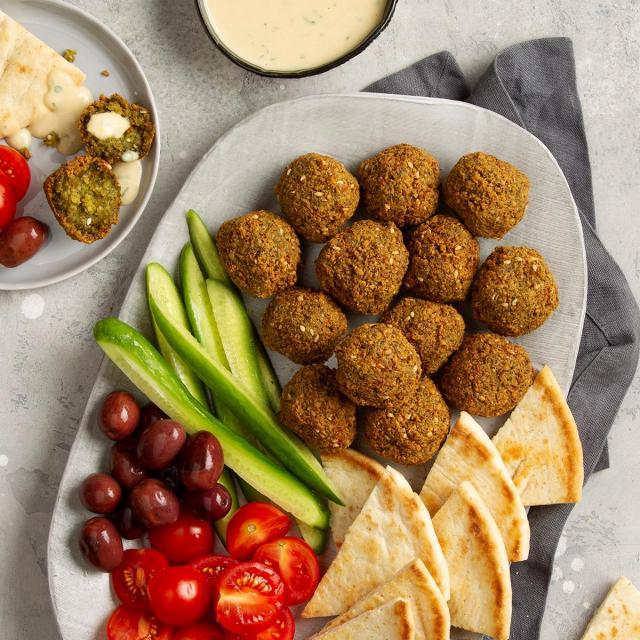flafel: (320, 222, 408, 316), (334, 325, 422, 410), (477, 244, 558, 336), (220, 211, 302, 295), (279, 152, 359, 238), (451, 338, 533, 420), (261, 283, 345, 363), (450, 152, 528, 238), (362, 143, 440, 225)
